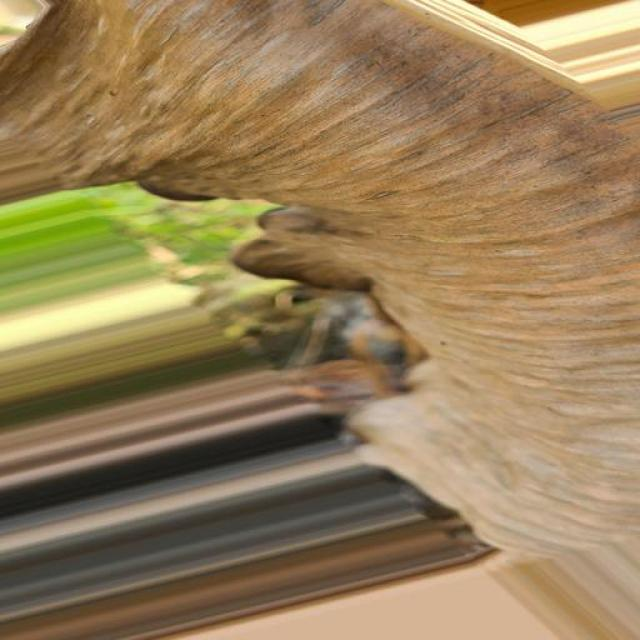Bract_mosaic_virus: (1, 2, 640, 640)
